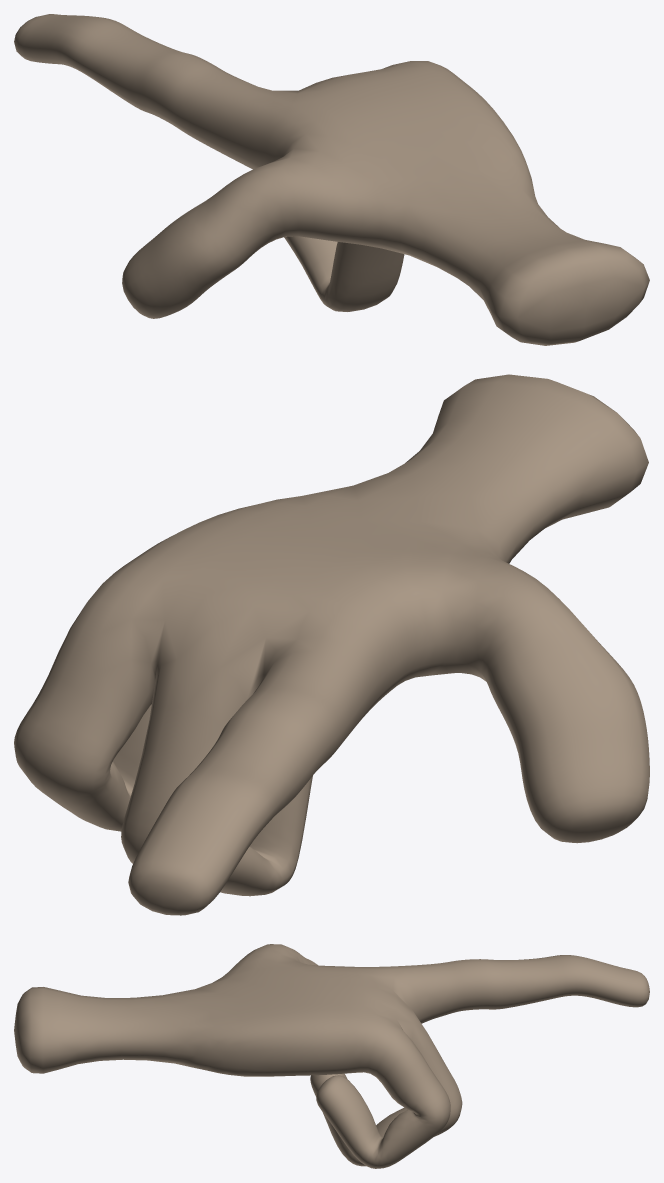
Rendered from Hand.FBX.
The picture shows the model from 3 angles, top to bottom: view 1: azimuth 30°, elevation 25°; view 2: azimuth 150°, elevation 25°; view 3: azimuth 270°, elevation 25°; orthographic projection. The views are drawn at different scales.
Visible parts, largest first — view 1: Box01; view 2: Box01; view 3: Box01.
Boxes of the visible parts, box(x1,y1,x2,y2) form: Box01: box(14, 14, 649, 345); Box01: box(14, 374, 649, 915); Box01: box(14, 944, 649, 1168).
Size of the model in its own units: 38.17 by 21.71 by 73.44.
